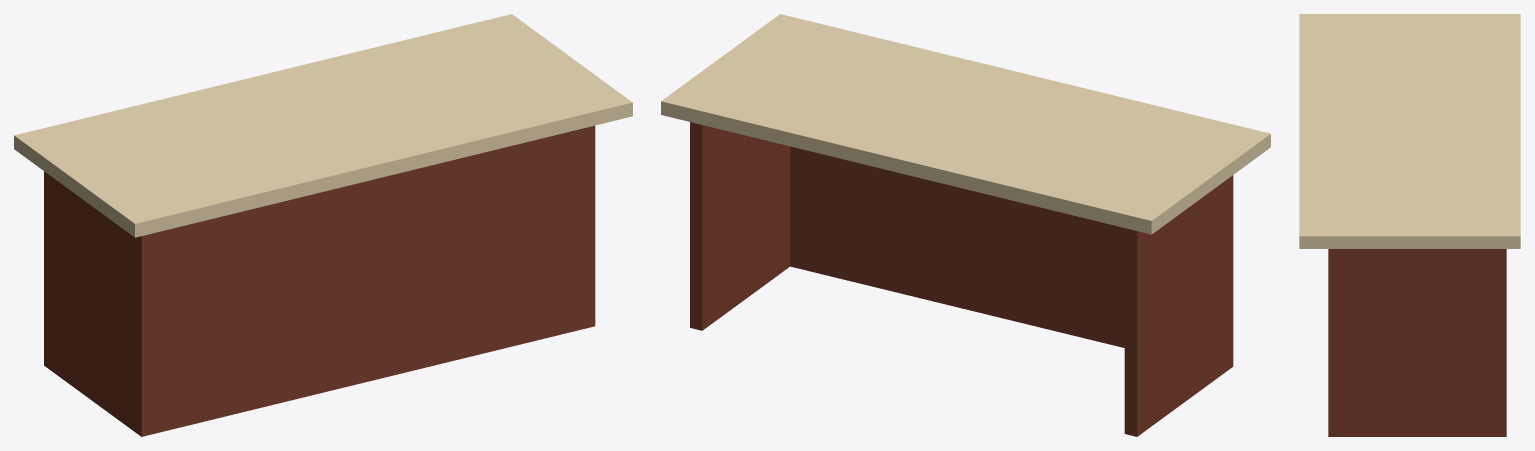
Rendered from teacherdesk.fbx.
3 views of the same model, side by side, from view 1: azimuth 30°, elevation 25°; view 2: azimuth 150°, elevation 25°; view 3: azimuth 270°, elevation 25° (orthographic). The views are drawn at different scales.
Parts seen in each view (by area): view 1: Cube.003; view 2: Cube.003; view 3: Cube.003.
Part boxes in pixels (x1,y1,x2,y2): Cube.003: (14, 14, 632, 436); Cube.003: (661, 14, 1270, 436); Cube.003: (1299, 14, 1520, 436).
Bounding box in the file's own units: 545 × 241 × 229.
